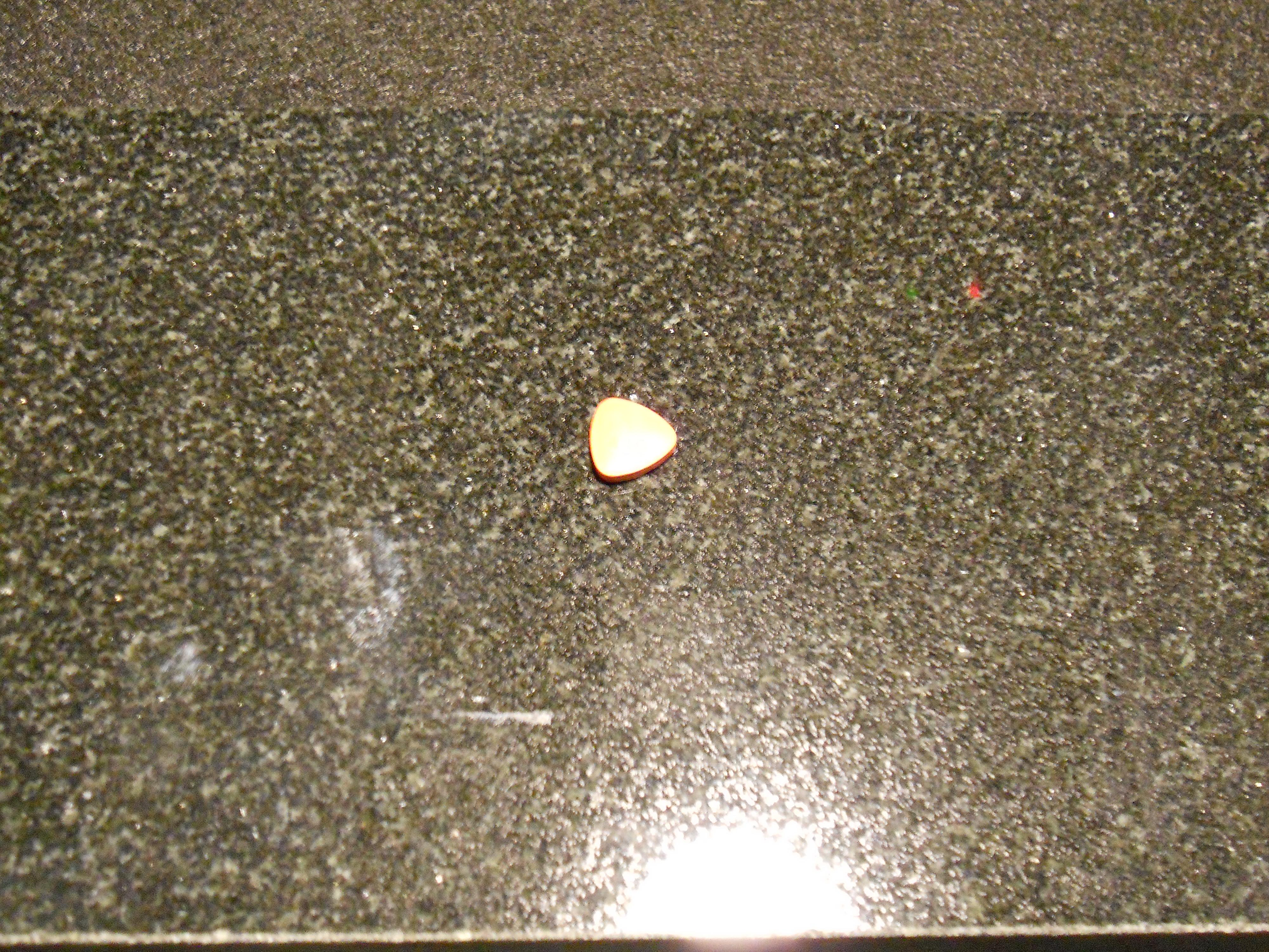Pill: (579, 387, 687, 493)
